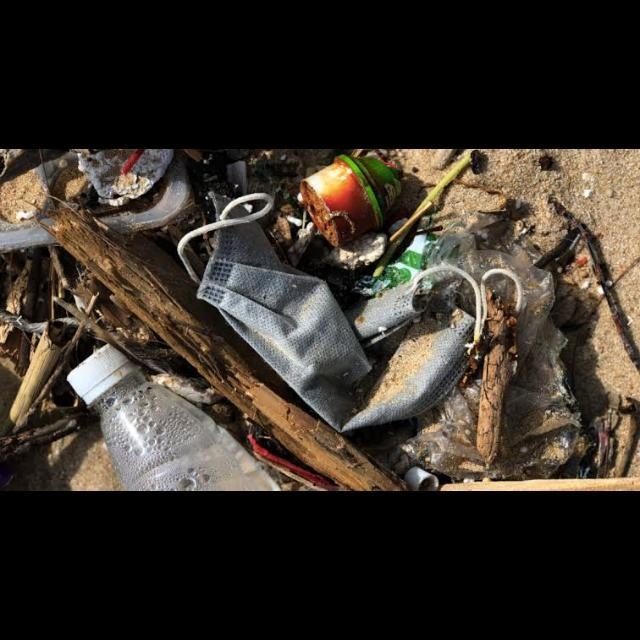plastic: (67, 345, 283, 492)
